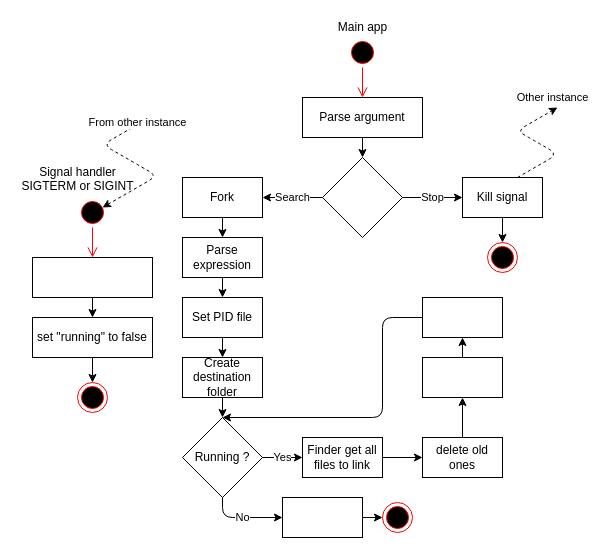
Image size: 605x556. Some labels were removed from this diagram. Here are the shapes that lost their labels. From the top down, the box of each, then its label:
(322, 156, 402, 238): Mode ?
(32, 256, 152, 298): Remove PID file
(422, 296, 502, 338): sleep
(422, 356, 502, 398): create new link
(282, 496, 362, 538): Delete destination folder
